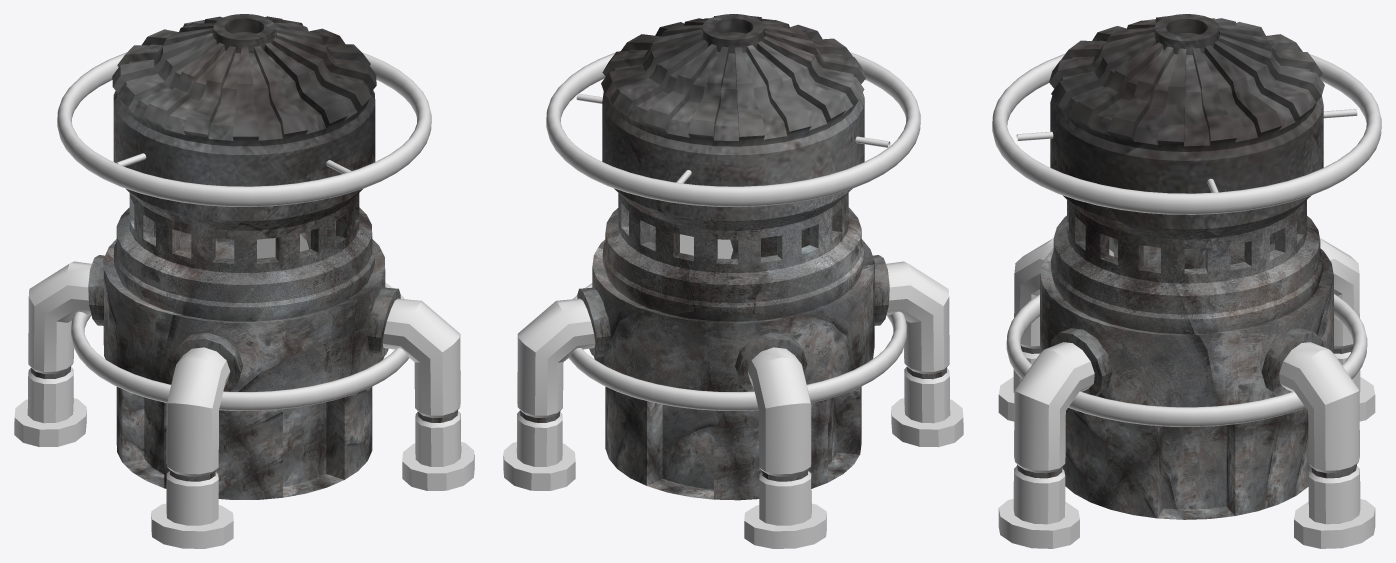
File: station.fbx
3 views of the same model, side by side, from view 1: azimuth 30°, elevation 25°; view 2: azimuth 150°, elevation 25°; view 3: azimuth 270°, elevation 25° (orthographic). The views are drawn at different scales.
Parts seen in each view (by area): view 1: Cylinder.002, Cylinder.003, BezierCircle, BezierCircle.001; view 2: Cylinder.002, Cylinder.003, BezierCircle, BezierCircle.001; view 3: Cylinder.002, Cylinder.003, BezierCircle, BezierCircle.001, NurbsPath.001.
Boxes of the visible parts, x1,y1,x2,y2 form: Cylinder.002: [103, 14, 385, 499]; Cylinder.003: [14, 232, 474, 548]; BezierCircle: [57, 52, 431, 206]; BezierCircle.001: [71, 283, 408, 410]; Cylinder.002: [592, 14, 874, 500]; Cylinder.003: [503, 234, 963, 548]; BezierCircle: [546, 51, 920, 206]; BezierCircle.001: [568, 283, 906, 410]; Cylinder.002: [1040, 14, 1333, 519]; Cylinder.003: [998, 238, 1375, 548]; BezierCircle: [992, 54, 1381, 214]; BezierCircle.001: [1006, 294, 1367, 426]; NurbsPath.001: [1016, 109, 1357, 140].
Bounding box in the file's own units: 285 × 357 × 285.
